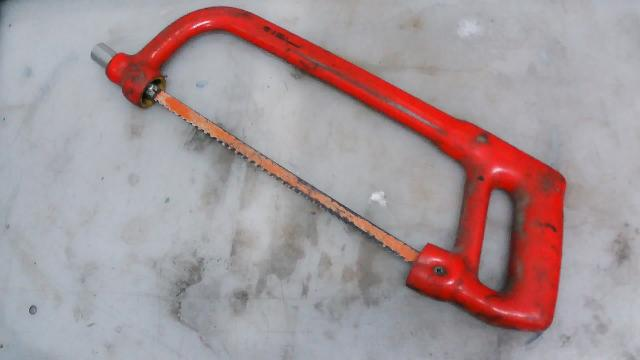gergaji_besi: (80, 0, 598, 337)
